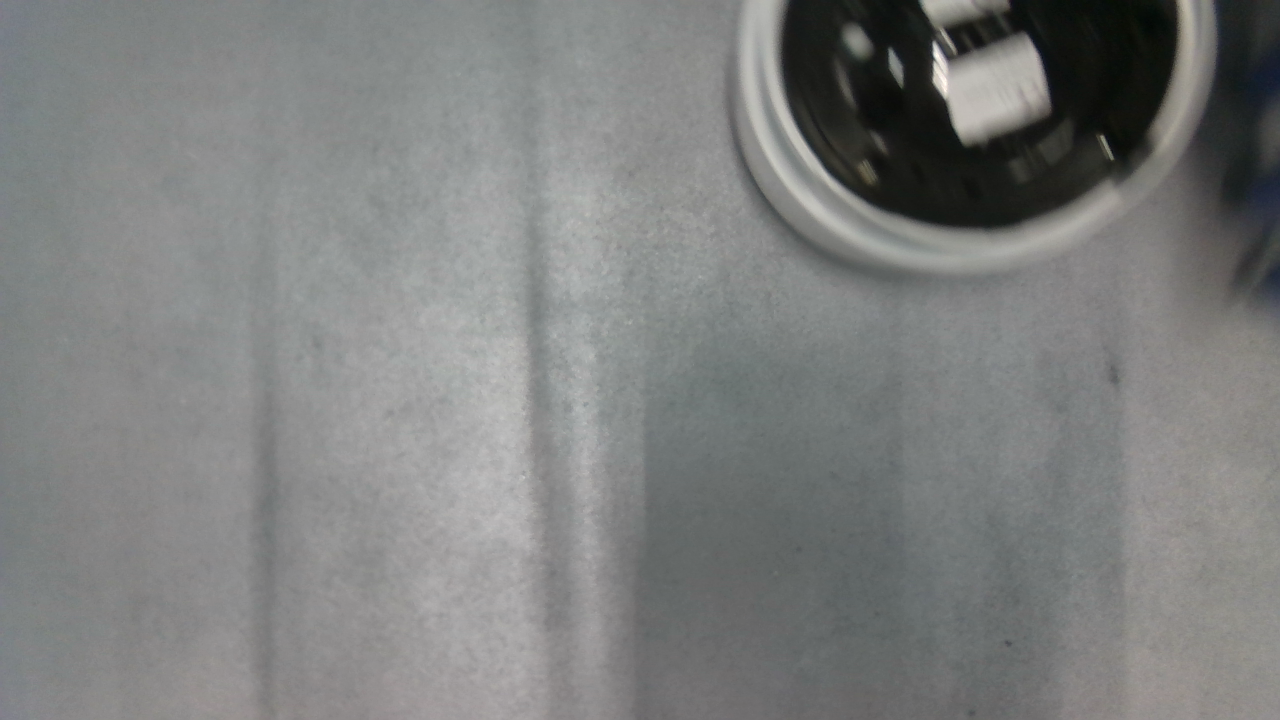HexScrew: (1091, 132, 1116, 165), (857, 161, 878, 188)
